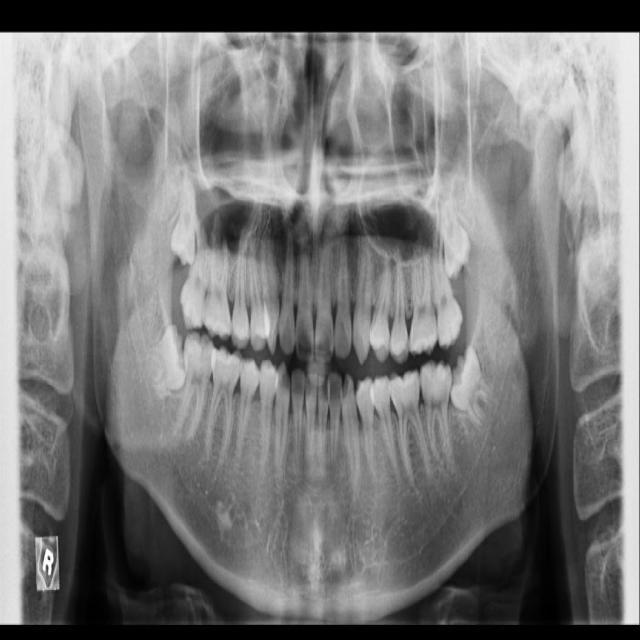3M ESPE Implant: (169, 176, 196, 266)
73: (598, 586, 609, 592)
BioHorizons Implant: (426, 232, 467, 352)
BioLife Implant: (438, 194, 474, 281)
Biomet 3i Implant: (435, 343, 504, 438)
Blue Sky Bio Implant: (419, 357, 456, 460)
Caries: (176, 212, 217, 333)
Implant: (172, 330, 220, 444)
Keystone Dental Implant: (138, 321, 193, 397)
